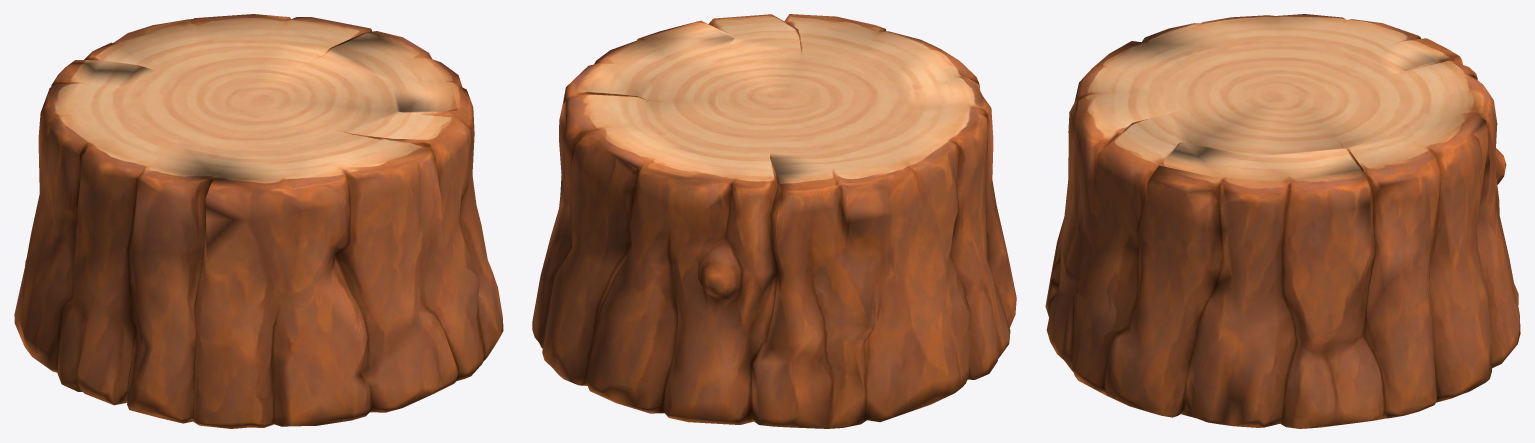
File: tree_stump_seat.glb
3 renders of one model, left to right at view 1: azimuth 30°, elevation 25°; view 2: azimuth 150°, elevation 25°; view 3: azimuth 270°, elevation 25°, orthographic.
Visible parts, largest first — view 1: tree_stump_seat; view 2: tree_stump_seat; view 3: tree_stump_seat.
Boxes of the visible parts, x1,y1,x2,y2 form: tree_stump_seat: (14, 14, 503, 428); tree_stump_seat: (532, 14, 1016, 428); tree_stump_seat: (1045, 14, 1520, 428).
Bounding box in the file's own units: 0.746 × 0.4 × 0.7387.
Materials: 1 (1 with a texture image).
